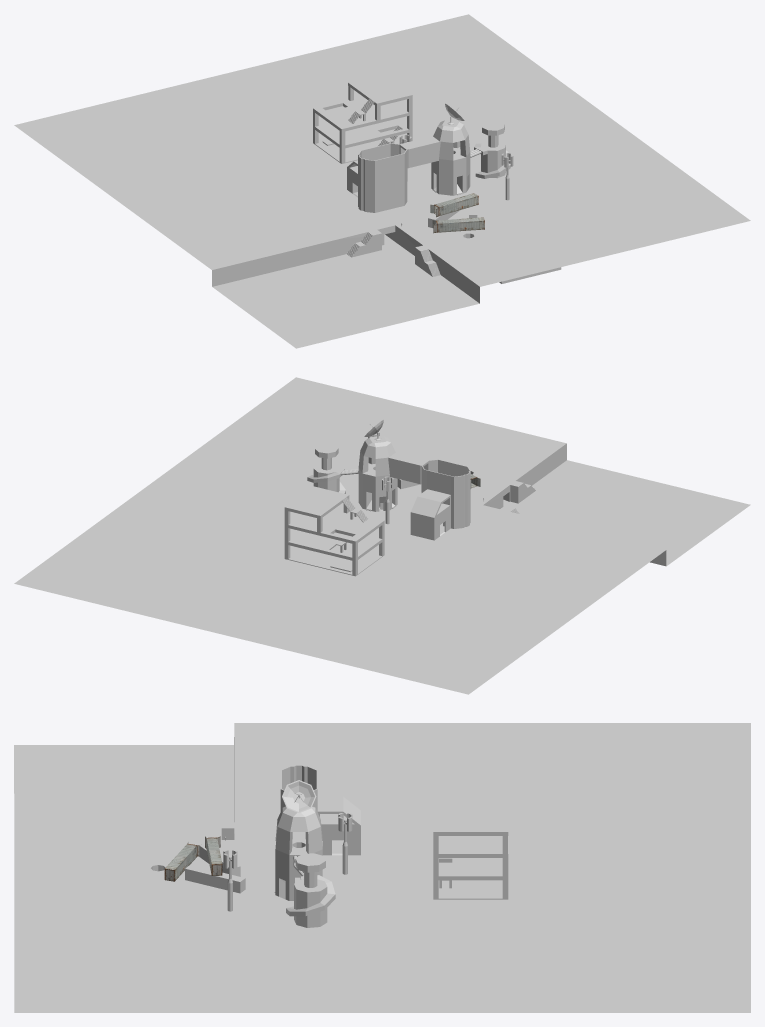
Rendered from TheTower 1.fbx.
The picture shows the model from 3 angles, top to bottom: view 1: azimuth 30°, elevation 25°; view 2: azimuth 150°, elevation 25°; view 3: azimuth 270°, elevation 25°; orthographic projection. The views are drawn at different scales.
Visible parts, largest first — view 1: Cube.005, Cube.019, Cube.014, Cube.008, Cube.006, Cube.016; view 2: Cube.005, Cube.019, Cube.014; view 3: Cube.005, Cube.019, Cube.014, Cube.007, Cylinder.001, Cube.008, Cube.016.
Part boxes in pixels (x1,y1,x2,y2): Cube.005: (14,14,750,348); Cube.019: (313,74,412,163); Cube.014: (474,121,511,178); Cube.008: (435,217,484,232); Cube.006: (347,230,381,257); Cube.016: (434,193,478,216); Cube.005: (14,377,750,694); Cube.019: (284,486,384,576); Cube.014: (307,443,345,493); Cube.005: (14,723,750,1012); Cube.019: (433,808,508,899); Cube.014: (286,853,335,927); Cube.007: (185,865,245,893); Cylinder.001: (282,780,316,812); Cube.008: (164,843,197,881); Cube.016: (206,837,222,875).
Size of the model in its own units: 25448 by 6121 by 27356.
